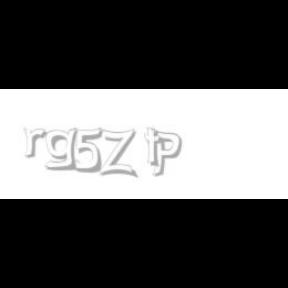5: (73, 128, 104, 174)
P: (150, 128, 182, 178)
Z: (98, 128, 136, 178)
g: (44, 128, 82, 171)
r: (23, 128, 50, 158)
t: (144, 128, 166, 168)
